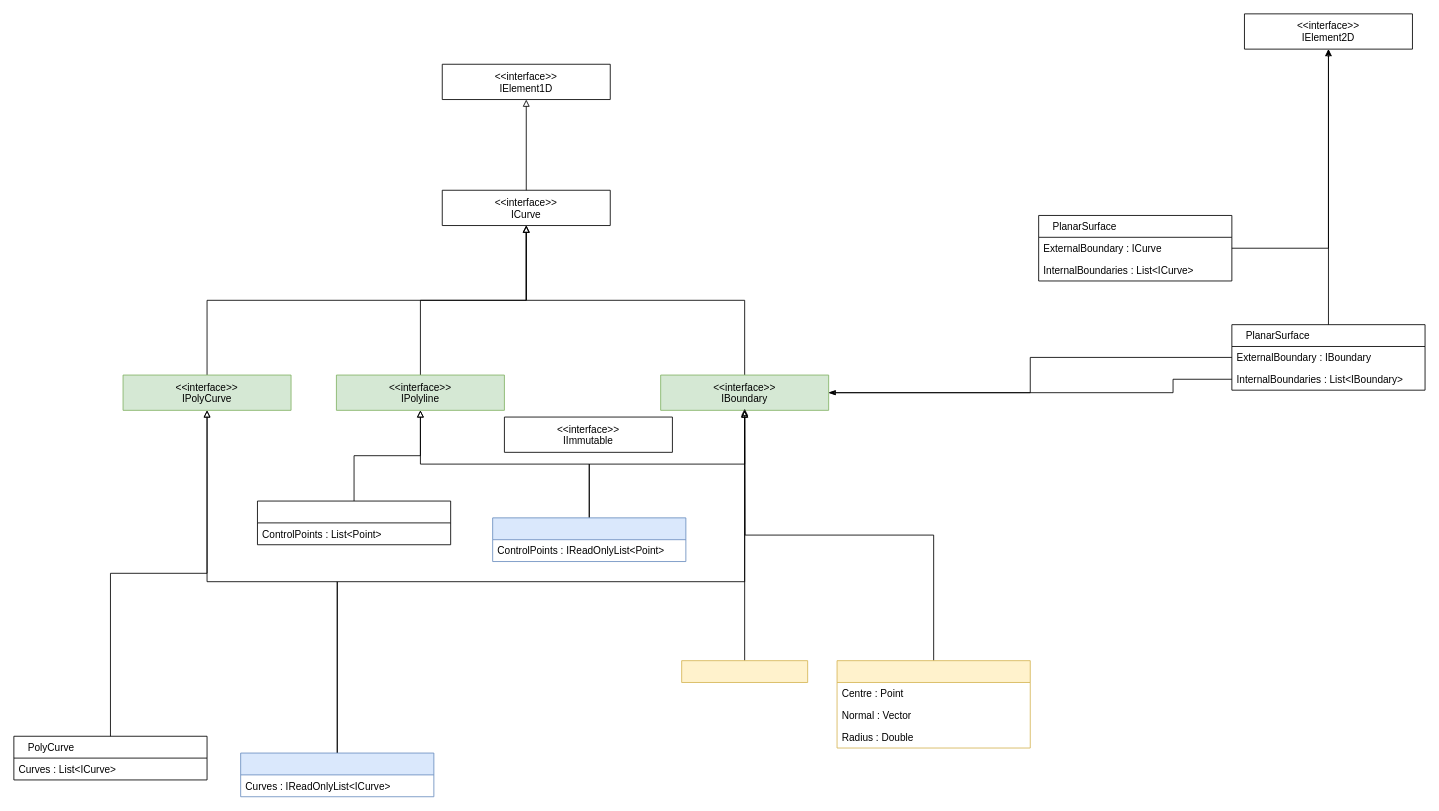
Image size: 1439x811. Some labels were removed from this diagram. The box of each missing label's shape, as (x1, y1, x2, y2) in pixels:
BoundaryCurve: (240, 752, 434, 797)
Circle: (836, 660, 1030, 748)
Ellipse: (681, 660, 808, 682)
Polygon: (492, 517, 686, 562)
Polyline: (257, 500, 451, 545)
